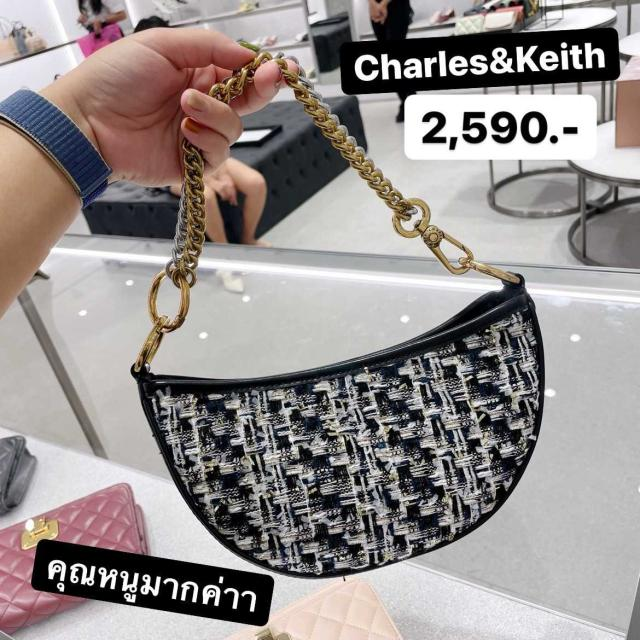Handbag: (138, 278, 553, 581)
